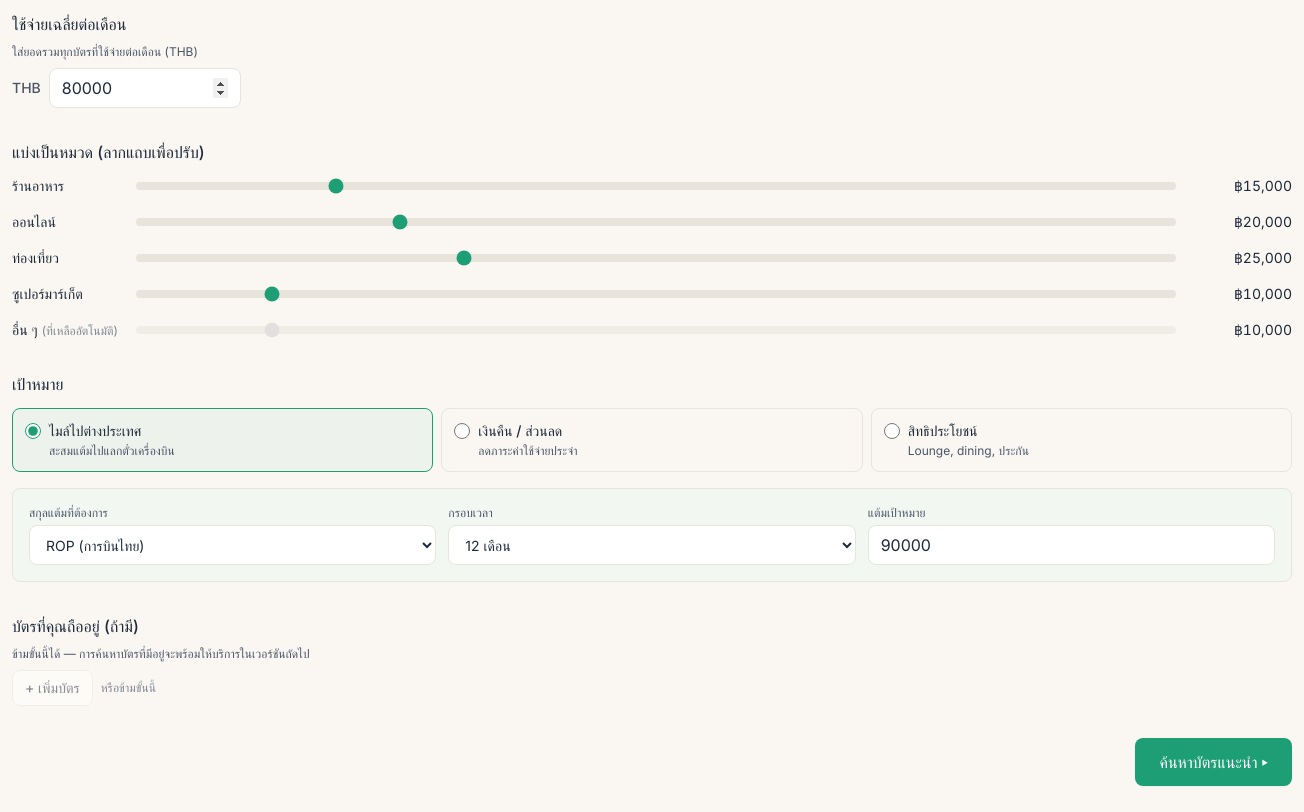
Test: Selector form submission flow › surfaces the API error_th instead of navigating on failure
Click the button "ค้นหาบัตรแนะนำ ▸" at coordinates (1214, 762), box [1135,738,1292,786]
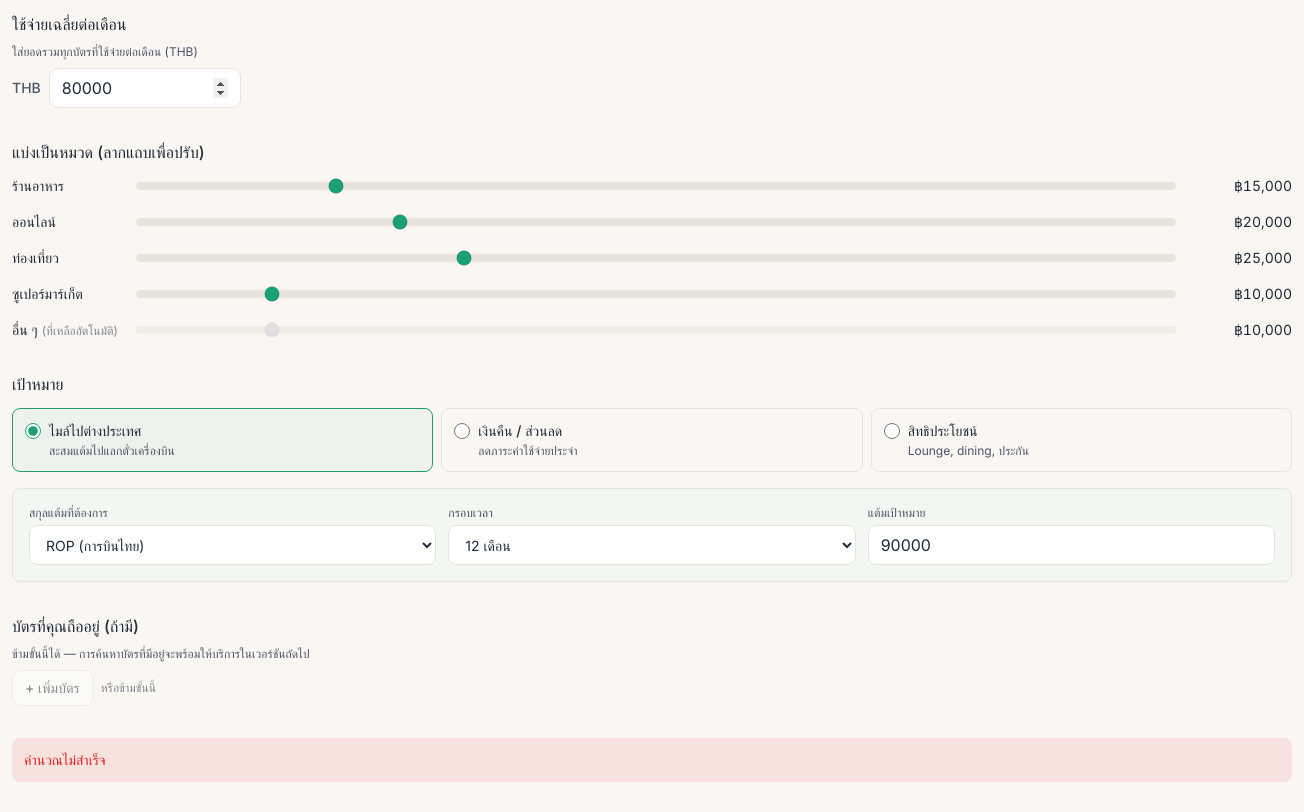
expect the message reads "คำนวณไม่สำเร็จ": met, box [24,751,106,768]
